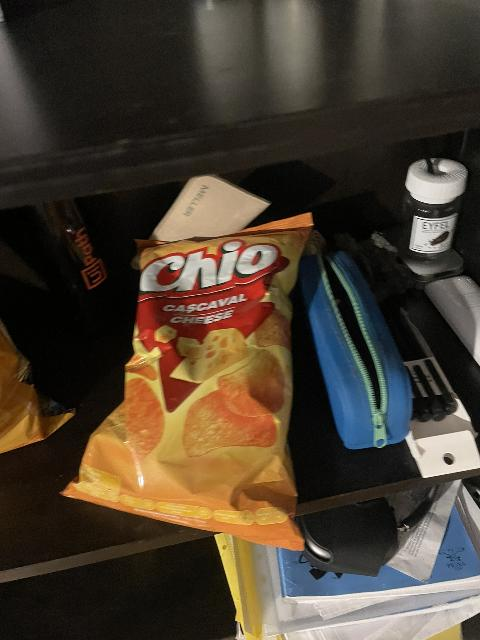Chio Cascaval 125g: (59, 211, 324, 548)
Chio Hula Hoops Cheese 70g: (1, 306, 78, 456)
